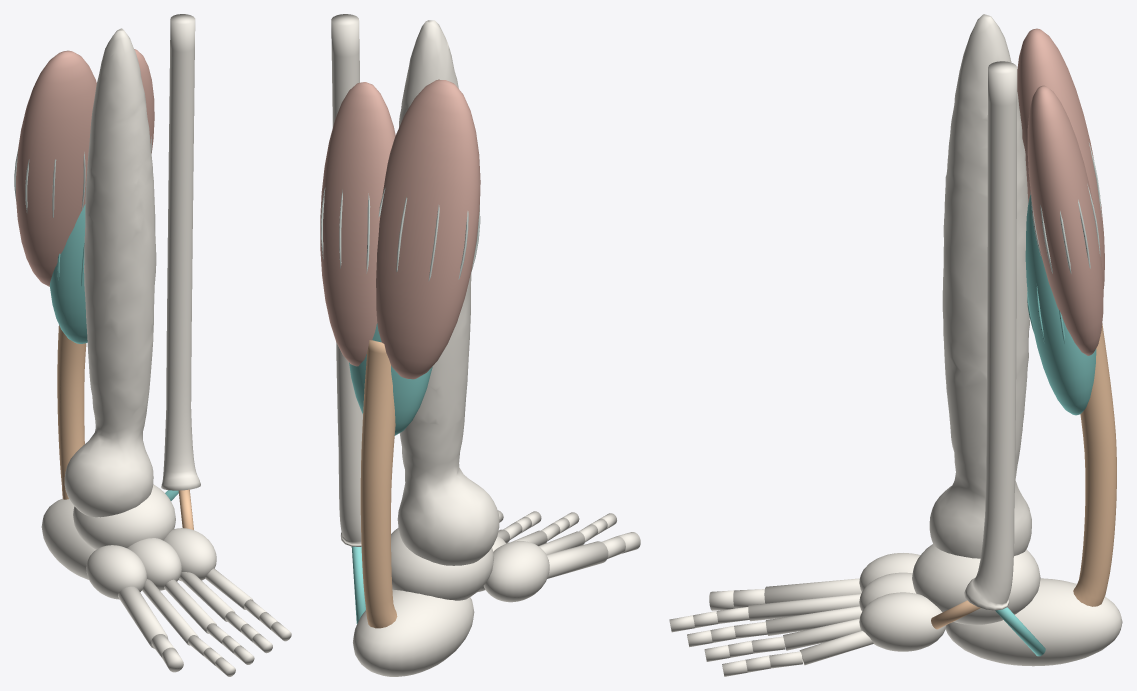
Rendered from achilles.glb.
The picture shows the model from 3 angles, left to right: view 1: azimuth 30°, elevation 25°; view 2: azimuth 150°, elevation 25°; view 3: azimuth 270°, elevation 25°; orthographic projection. The views are drawn at different scales.
Parts seen in each view (by area): view 1: static #eee5d3, static #bb7564, static #f2a066, static #49bdb4, static #c7ddd2; view 2: static #eee5d3, static #bb7564, static #f2a066, static #49bdb4, static #c7ddd2; view 3: static #eee5d3, static #bb7564, static #f2a066, static #49bdb4, static #c7ddd2.
Boxes of the visible parts, x1=… form: static #eee5d3: x1=41, y1=14, x2=291, y2=676; static #bb7564: x1=16, y1=49, x2=154, y2=286; static #f2a066: x1=57, y1=325, x2=193, y2=529; static #49bdb4: x1=49, y1=204, x2=178, y2=500; static #c7ddd2: x1=14, y1=136, x2=151, y2=217; static #eee5d3: x1=331, y1=14, x2=640, y2=676; static #bb7564: x1=320, y1=79, x2=480, y2=379; static #f2a066: x1=360, y1=340, x2=397, y2=628; static #49bdb4: x1=349, y1=323, x2=432, y2=623; static #c7ddd2: x1=321, y1=187, x2=480, y2=281; static #eee5d3: x1=669, y1=14, x2=1122, y2=676; static #bb7564: x1=1017, y1=28, x2=1104, y2=355; static #f2a066: x1=931, y1=323, x2=1116, y2=629; static #49bdb4: x1=995, y1=195, x2=1096, y2=656; static #c7ddd2: x1=1030, y1=143, x2=1101, y2=273.
Bounding box in the file's own units: 0.1384 × 0.4888 × 0.3098.
